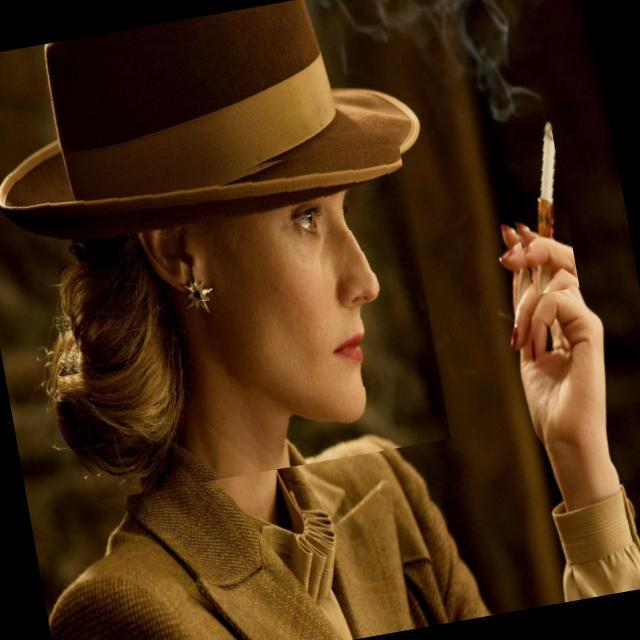cigarette: (478, 86, 580, 298)
